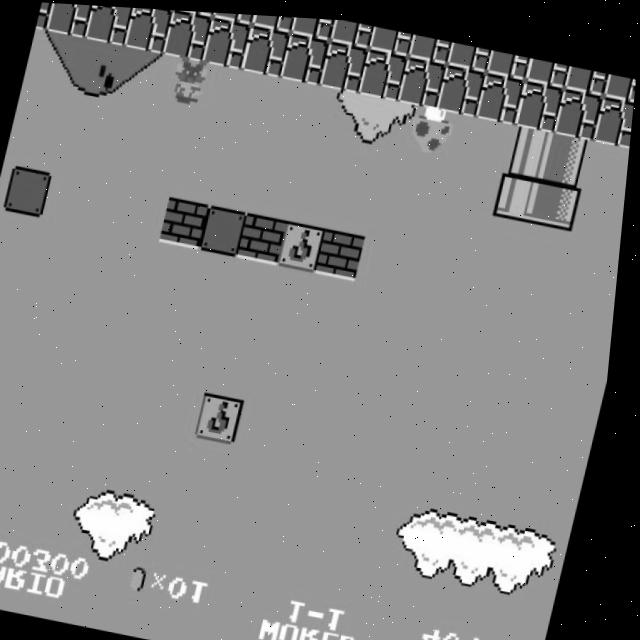1- brick_block: (241, 209, 292, 262), (319, 224, 370, 277), (163, 194, 213, 248)
11- little_mario: (163, 50, 216, 108)
12- mushroom: (405, 96, 458, 154)
13- mystery_block: (280, 216, 331, 270), (202, 389, 253, 442)
14- pipe: (505, 119, 556, 172), (545, 126, 595, 179)
15- pipe_head: (496, 163, 546, 216), (535, 171, 585, 224)
17- undestructible_block: (241, 21, 292, 75), (398, 51, 449, 105), (515, 73, 566, 127), (202, 14, 253, 67), (280, 29, 331, 82), (437, 59, 488, 112), (476, 66, 527, 119), (162, 8, 213, 60), (320, 37, 370, 90), (359, 44, 409, 97), (555, 81, 605, 134), (123, 6, 173, 52), (594, 88, 635, 141), (84, 4, 134, 45), (44, 2, 94, 37), (368, 22, 414, 52), (408, 29, 454, 59), (447, 37, 493, 67), (486, 44, 532, 74), (525, 52, 571, 82), (564, 59, 610, 89), (329, 15, 375, 44), (289, 14, 335, 37), (603, 66, 637, 96), (251, 12, 296, 30), (211, 10, 256, 22), (36, 2, 54, 31)
3- empty_block: (6, 165, 57, 218), (202, 202, 252, 255)
